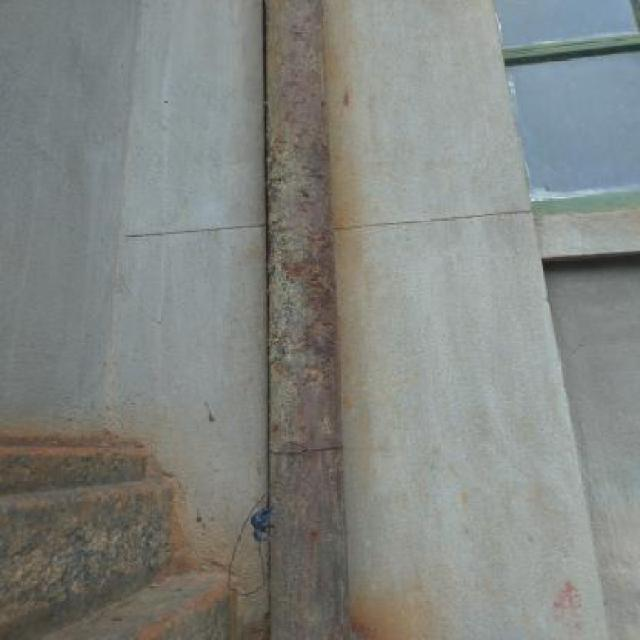gas: (249, 0, 348, 635)
